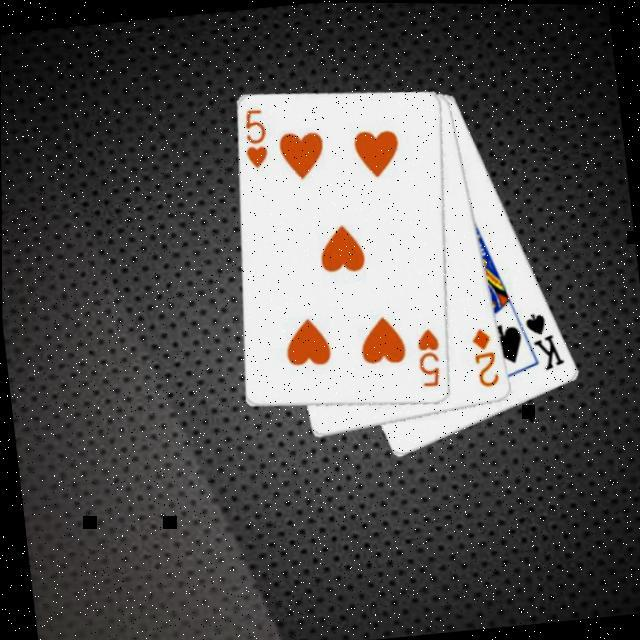2D: (467, 324, 503, 391)
5H: (238, 106, 273, 173), (413, 325, 447, 391)
KS: (522, 307, 568, 375)
